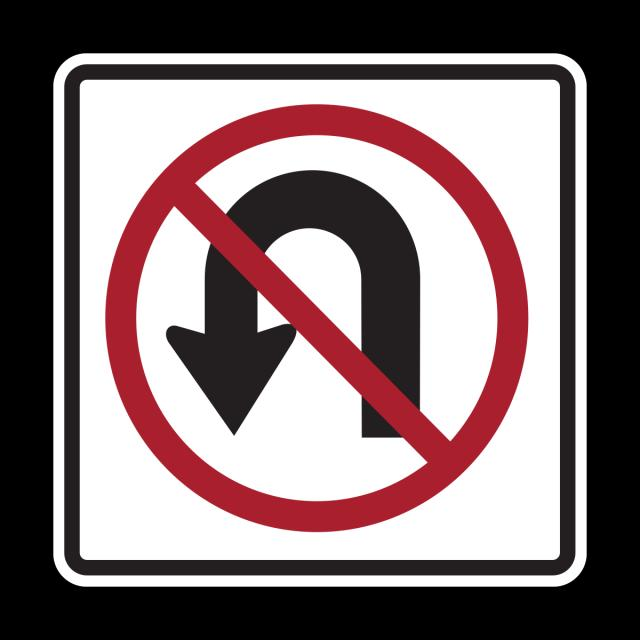Demi-Tour-Interdit: (125, 134, 522, 505)
